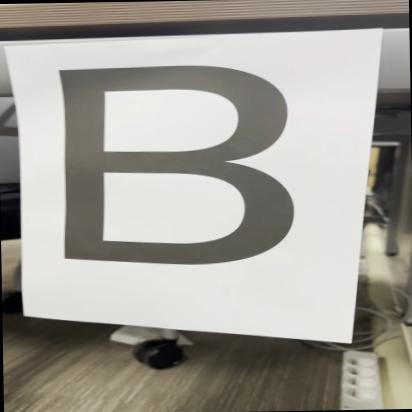seat: (33, 54, 312, 280)
